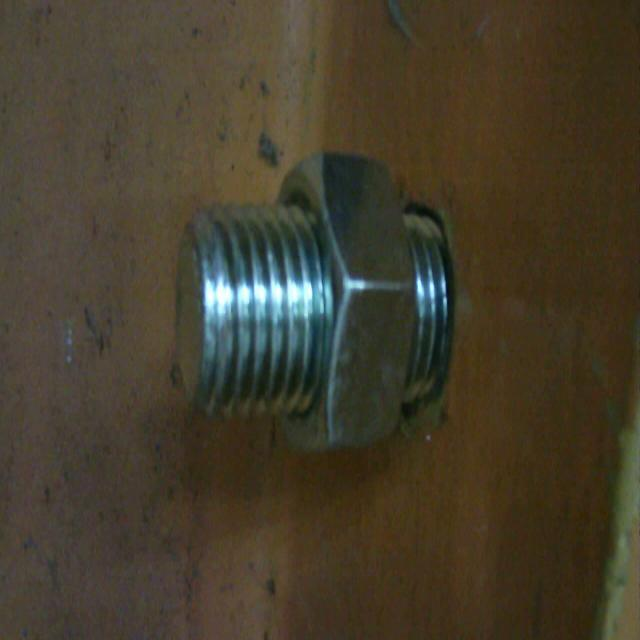Loose bolt: (183, 155, 446, 437)
Regular bolt: (180, 146, 455, 456)
